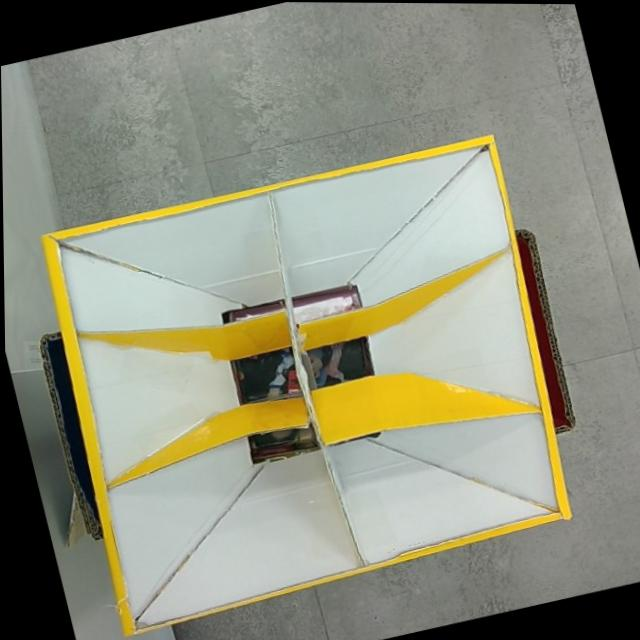box: (11, 124, 606, 640)
